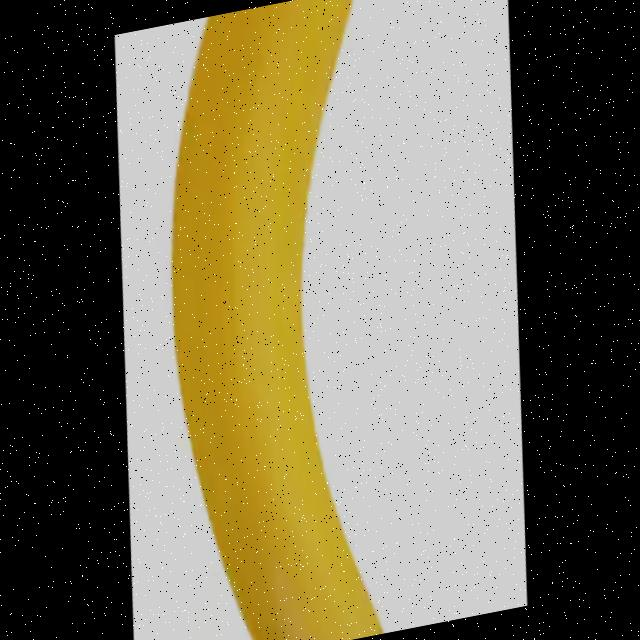banana: (107, 0, 476, 640)
